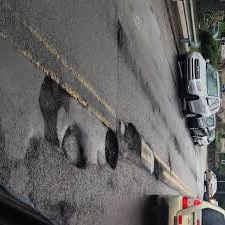pothole: (28, 67, 73, 146), (99, 124, 120, 179), (61, 123, 82, 173), (123, 119, 144, 165), (111, 19, 125, 53), (151, 155, 163, 183)
